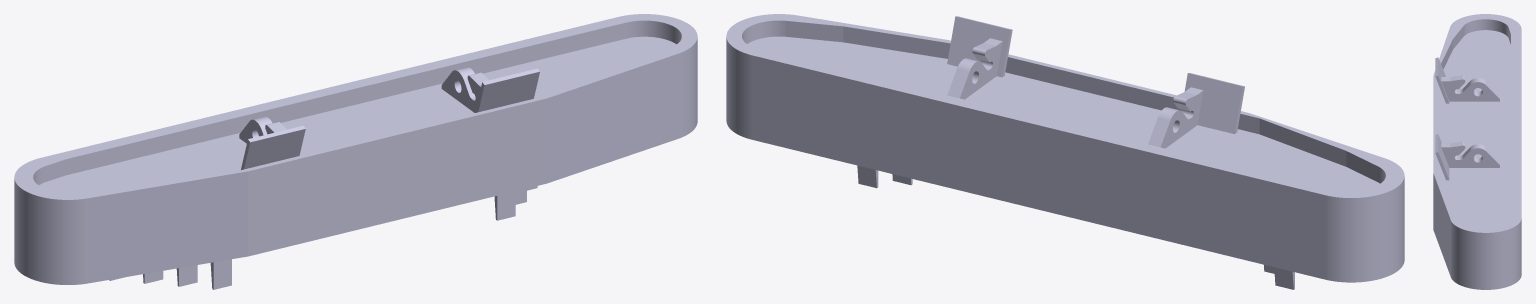
Rendered from CRAWLER_RIGHT.obj.
3 views of the same model, side by side, from view 1: azimuth 30°, elevation 25°; view 2: azimuth 150°, elevation 25°; view 3: azimuth 270°, elevation 25° (orthographic). The views are drawn at different scales.
Parts seen in each view (by area): view 1: HSC_1500HLX_CRAWLER_000_1-1500HLX_CRAWLER029 (Meshed); view 2: HSC_1500HLX_CRAWLER_000_1-1500HLX_CRAWLER029 (Meshed); view 3: HSC_1500HLX_CRAWLER_000_1-1500HLX_CRAWLER029 (Meshed).
Part boxes in pixels (x1,y1,x2,y2): HSC_1500HLX_CRAWLER_000_1-1500HLX_CRAWLER029 (Meshed): [14, 14, 697, 289]; HSC_1500HLX_CRAWLER_000_1-1500HLX_CRAWLER029 (Meshed): [726, 14, 1404, 289]; HSC_1500HLX_CRAWLER_000_1-1500HLX_CRAWLER029 (Meshed): [1433, 14, 1521, 289].
Size of the model in its own units: 7935 by 1696 by 1350.
